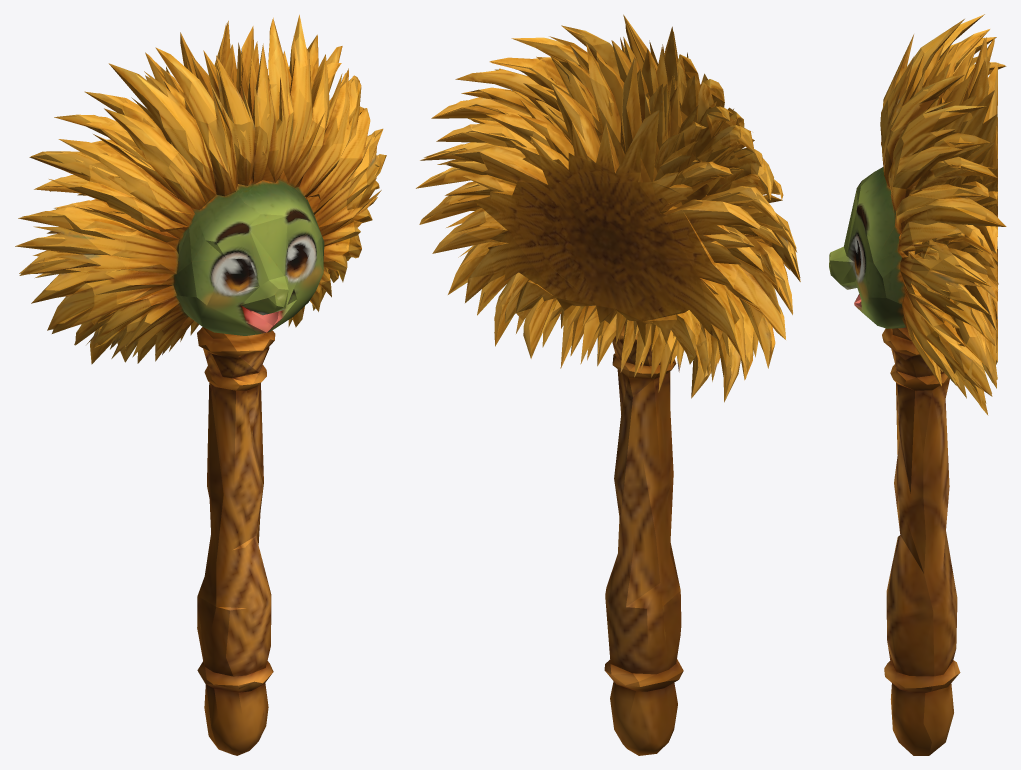
The model's file is Messire balai idle.glb.
The picture shows the model from 3 angles, left to right: view 1: azimuth 30°, elevation 25°; view 2: azimuth 150°, elevation 25°; view 3: azimuth 270°, elevation 25°; orthographic projection. The views are drawn at different scales.
Parts seen in each view (by area): view 1: output_unwrapped; view 2: output_unwrapped; view 3: output_unwrapped.
Boxes of the visible parts, bbox=[...] form: output_unwrapped: bbox=[15, 14, 386, 755]; output_unwrapped: bbox=[416, 14, 800, 755]; output_unwrapped: bbox=[829, 14, 1006, 755].
Size of the model in its own units: 1.05 by 1.89 by 0.4301.
Materials: 1 (1 with a texture image).
